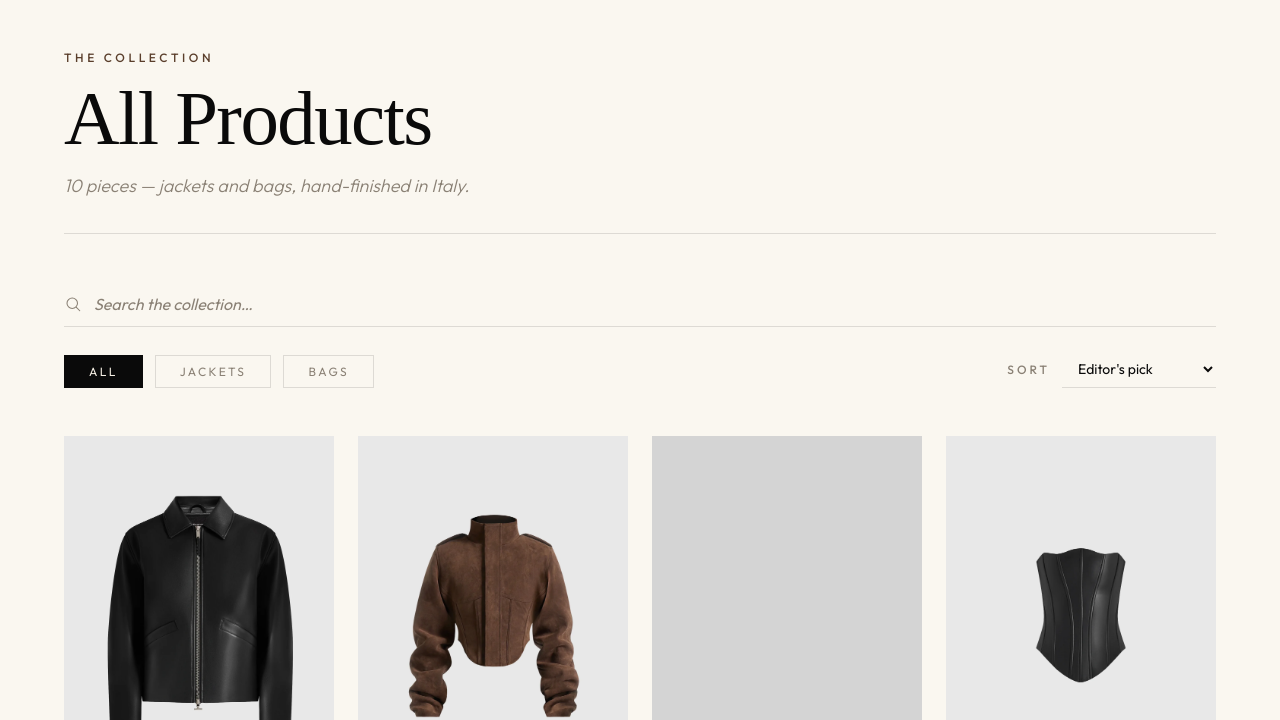
Test: Recherche produits › affiche un message quand rien ne correspond
The image size is (1280, 720).
Type "xyz-aucun-resultat" into the field with placeholder "Search the collection…" at (655,304), box [94,282,1216,326]
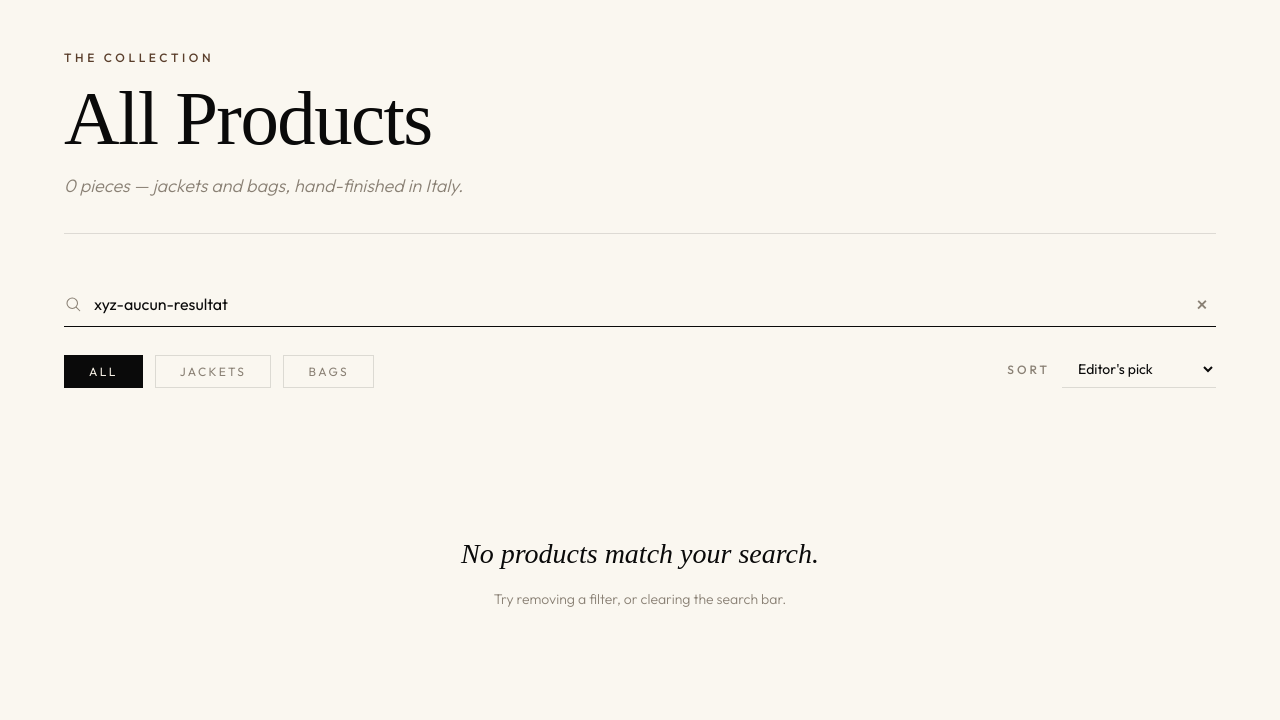
Result: the text "No products match your search." is shown at [461,538,819,569]
